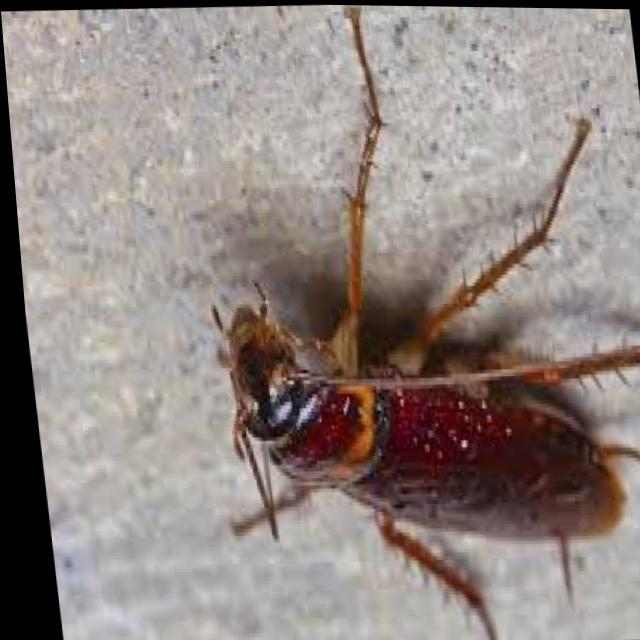Cockroach: (163, 2, 640, 640)
